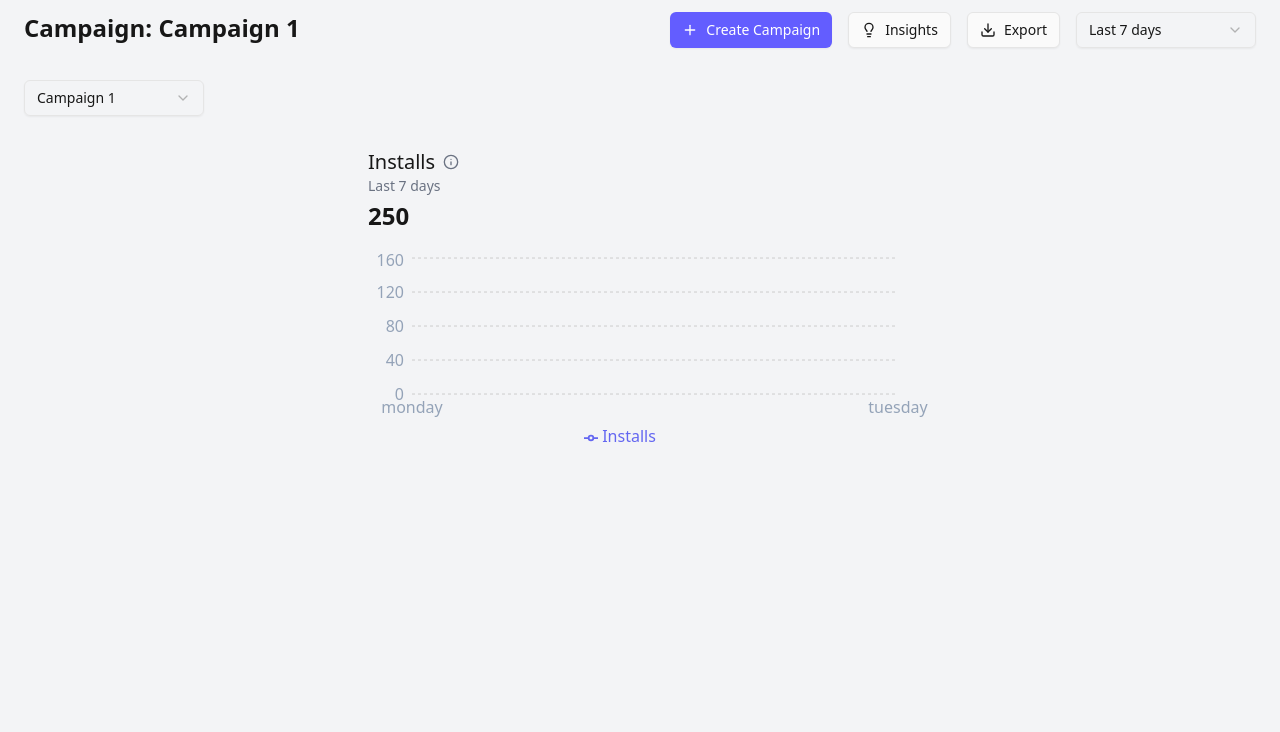
it: Campaigns › should toggle insights when clicking the insight button
Click the button "Insights".
click(900, 30)  # box [848,12,951,48]
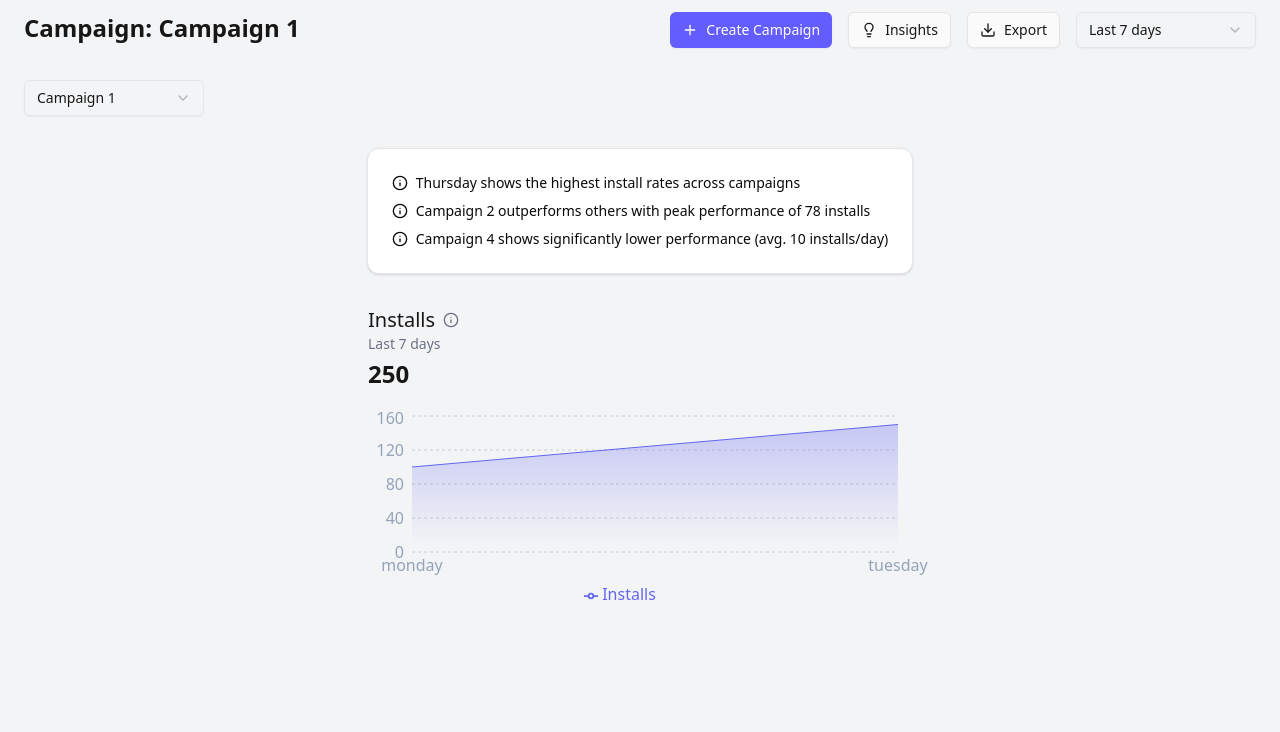
Check: the list item "Thursday shows the highest install rates across campaigns" is shown, box [392,173,800,192]
Check: the list item "Campaign 2 outperforms others with peak performance of 78 installs" is shown, box [392,201,888,221]
Check: the list item "Campaign 4 shows significantly lower performance (avg. 10 installs/day)" is shown, box [392,229,888,249]
